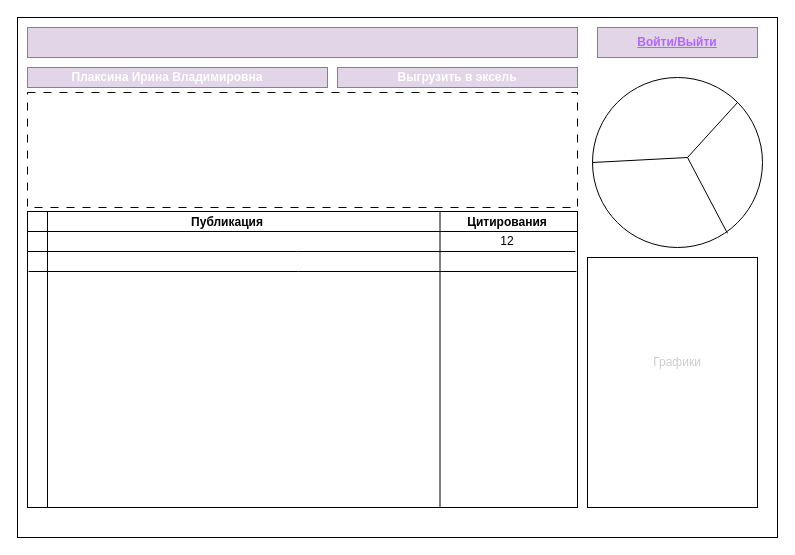
Some shapes in this 795 by 555 pixel diagram are drawn without their labels. The centre of each missing label's shape, as x and y in pixels:
"Всякая инфа и метрики" goes at (x=302, y=150).
"Главная" goes at (x=302, y=42).
